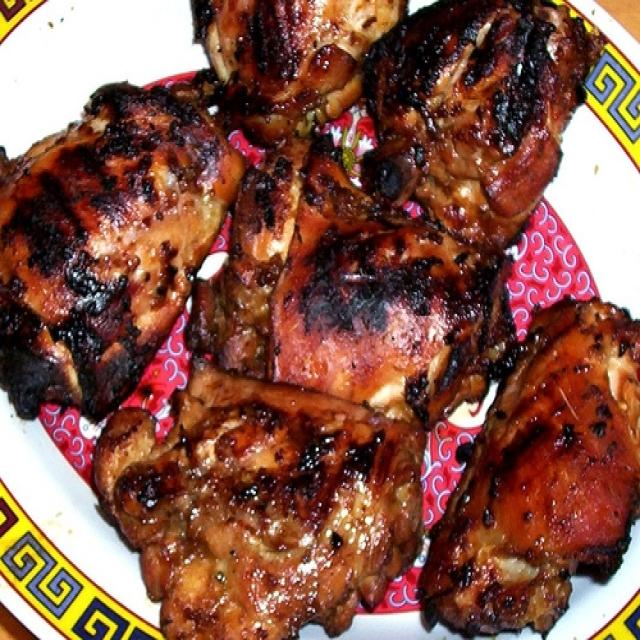鸡肉料理 含炸鸡: (9, 10, 635, 627)
